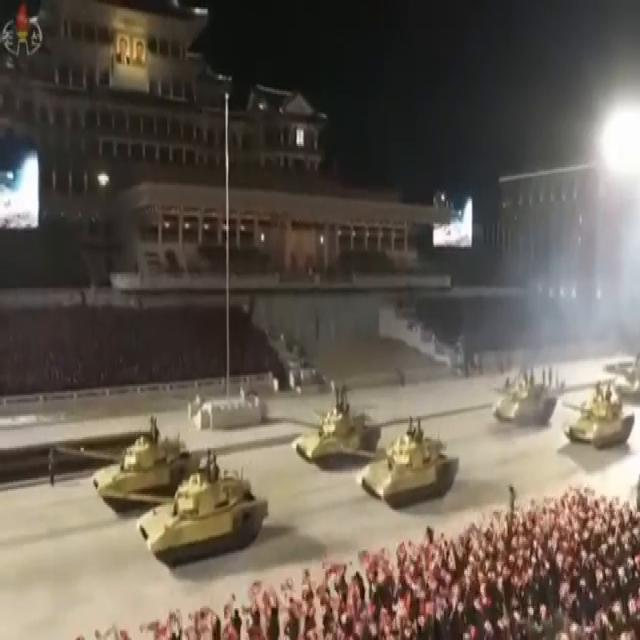north tank: (128, 475, 288, 569), (82, 419, 201, 520), (361, 420, 466, 529), (296, 384, 388, 475), (486, 352, 565, 438), (559, 372, 634, 448)
